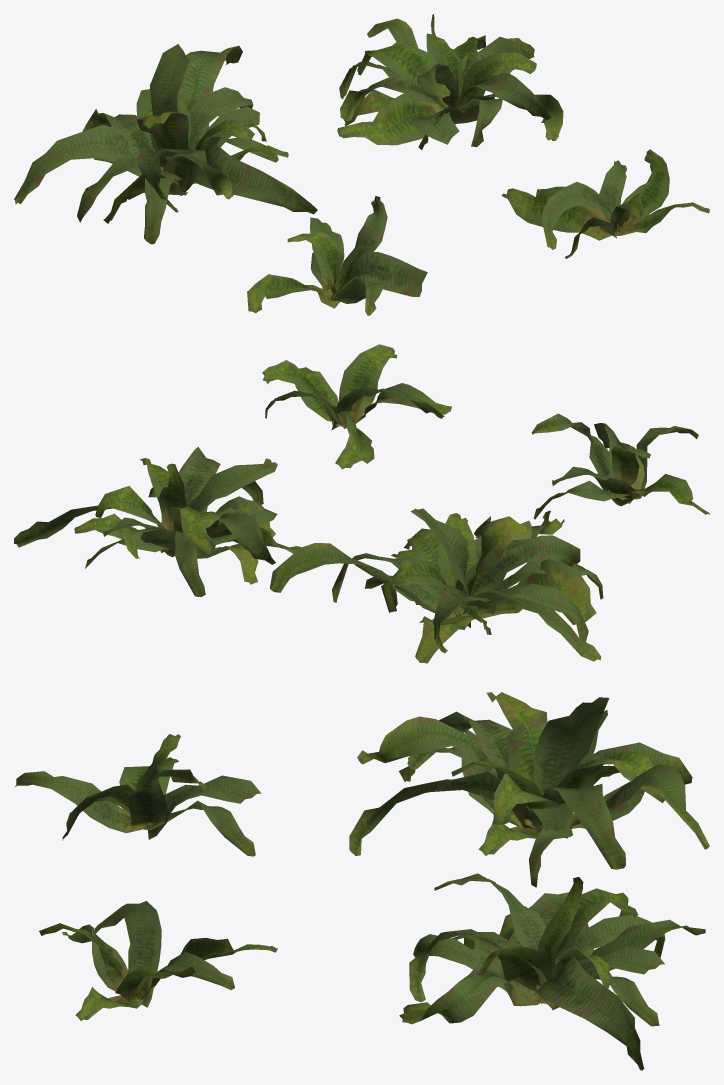
File: fern_02.glb
3 views of the same model, one above another, from view 1: azimuth 30°, elevation 25°; view 2: azimuth 150°, elevation 25°; view 3: azimuth 270°, elevation 25° (orthographic). The views are drawn at different scales.
Parts seen in each view (by area): view 1: fern_02_b, fern_02_c, fern_02_d, fern_02_a; view 2: fern_02_b, fern_02_c, fern_02_d, fern_02_a; view 3: fern_02_b, fern_02_c, fern_02_a, fern_02_d.
Boxes of the visible parts, <box> form: fern_02_b: <box>14,44,317,244</box>; fern_02_c: <box>337,14,563,149</box>; fern_02_d: <box>501,149,709,258</box>; fern_02_a: <box>247,196,427,315</box>; fern_02_b: <box>270,508,603,663</box>; fern_02_c: <box>14,447,301,596</box>; fern_02_d: <box>262,344,451,469</box>; fern_02_a: <box>531,413,709,519</box>; fern_02_b: <box>349,692,709,887</box>; fern_02_c: <box>399,873,705,1070</box>; fern_02_a: <box>15,734,261,856</box>; fern_02_d: <box>39,901,277,1020</box>.
Size of the model in its own units: 1.97 by 0.4277 by 1.72.
Materials: 1 (1 with a texture image).
